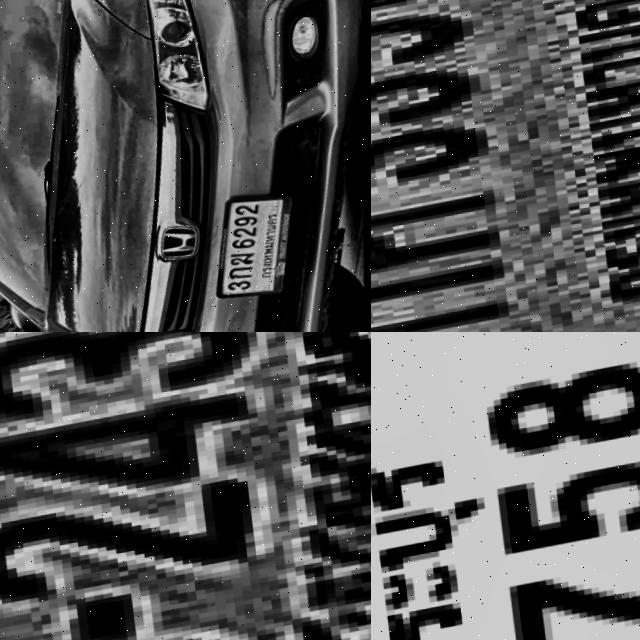license-plate: (0, 332, 371, 640), (371, 0, 640, 332), (371, 332, 640, 640), (196, 190, 307, 317)
